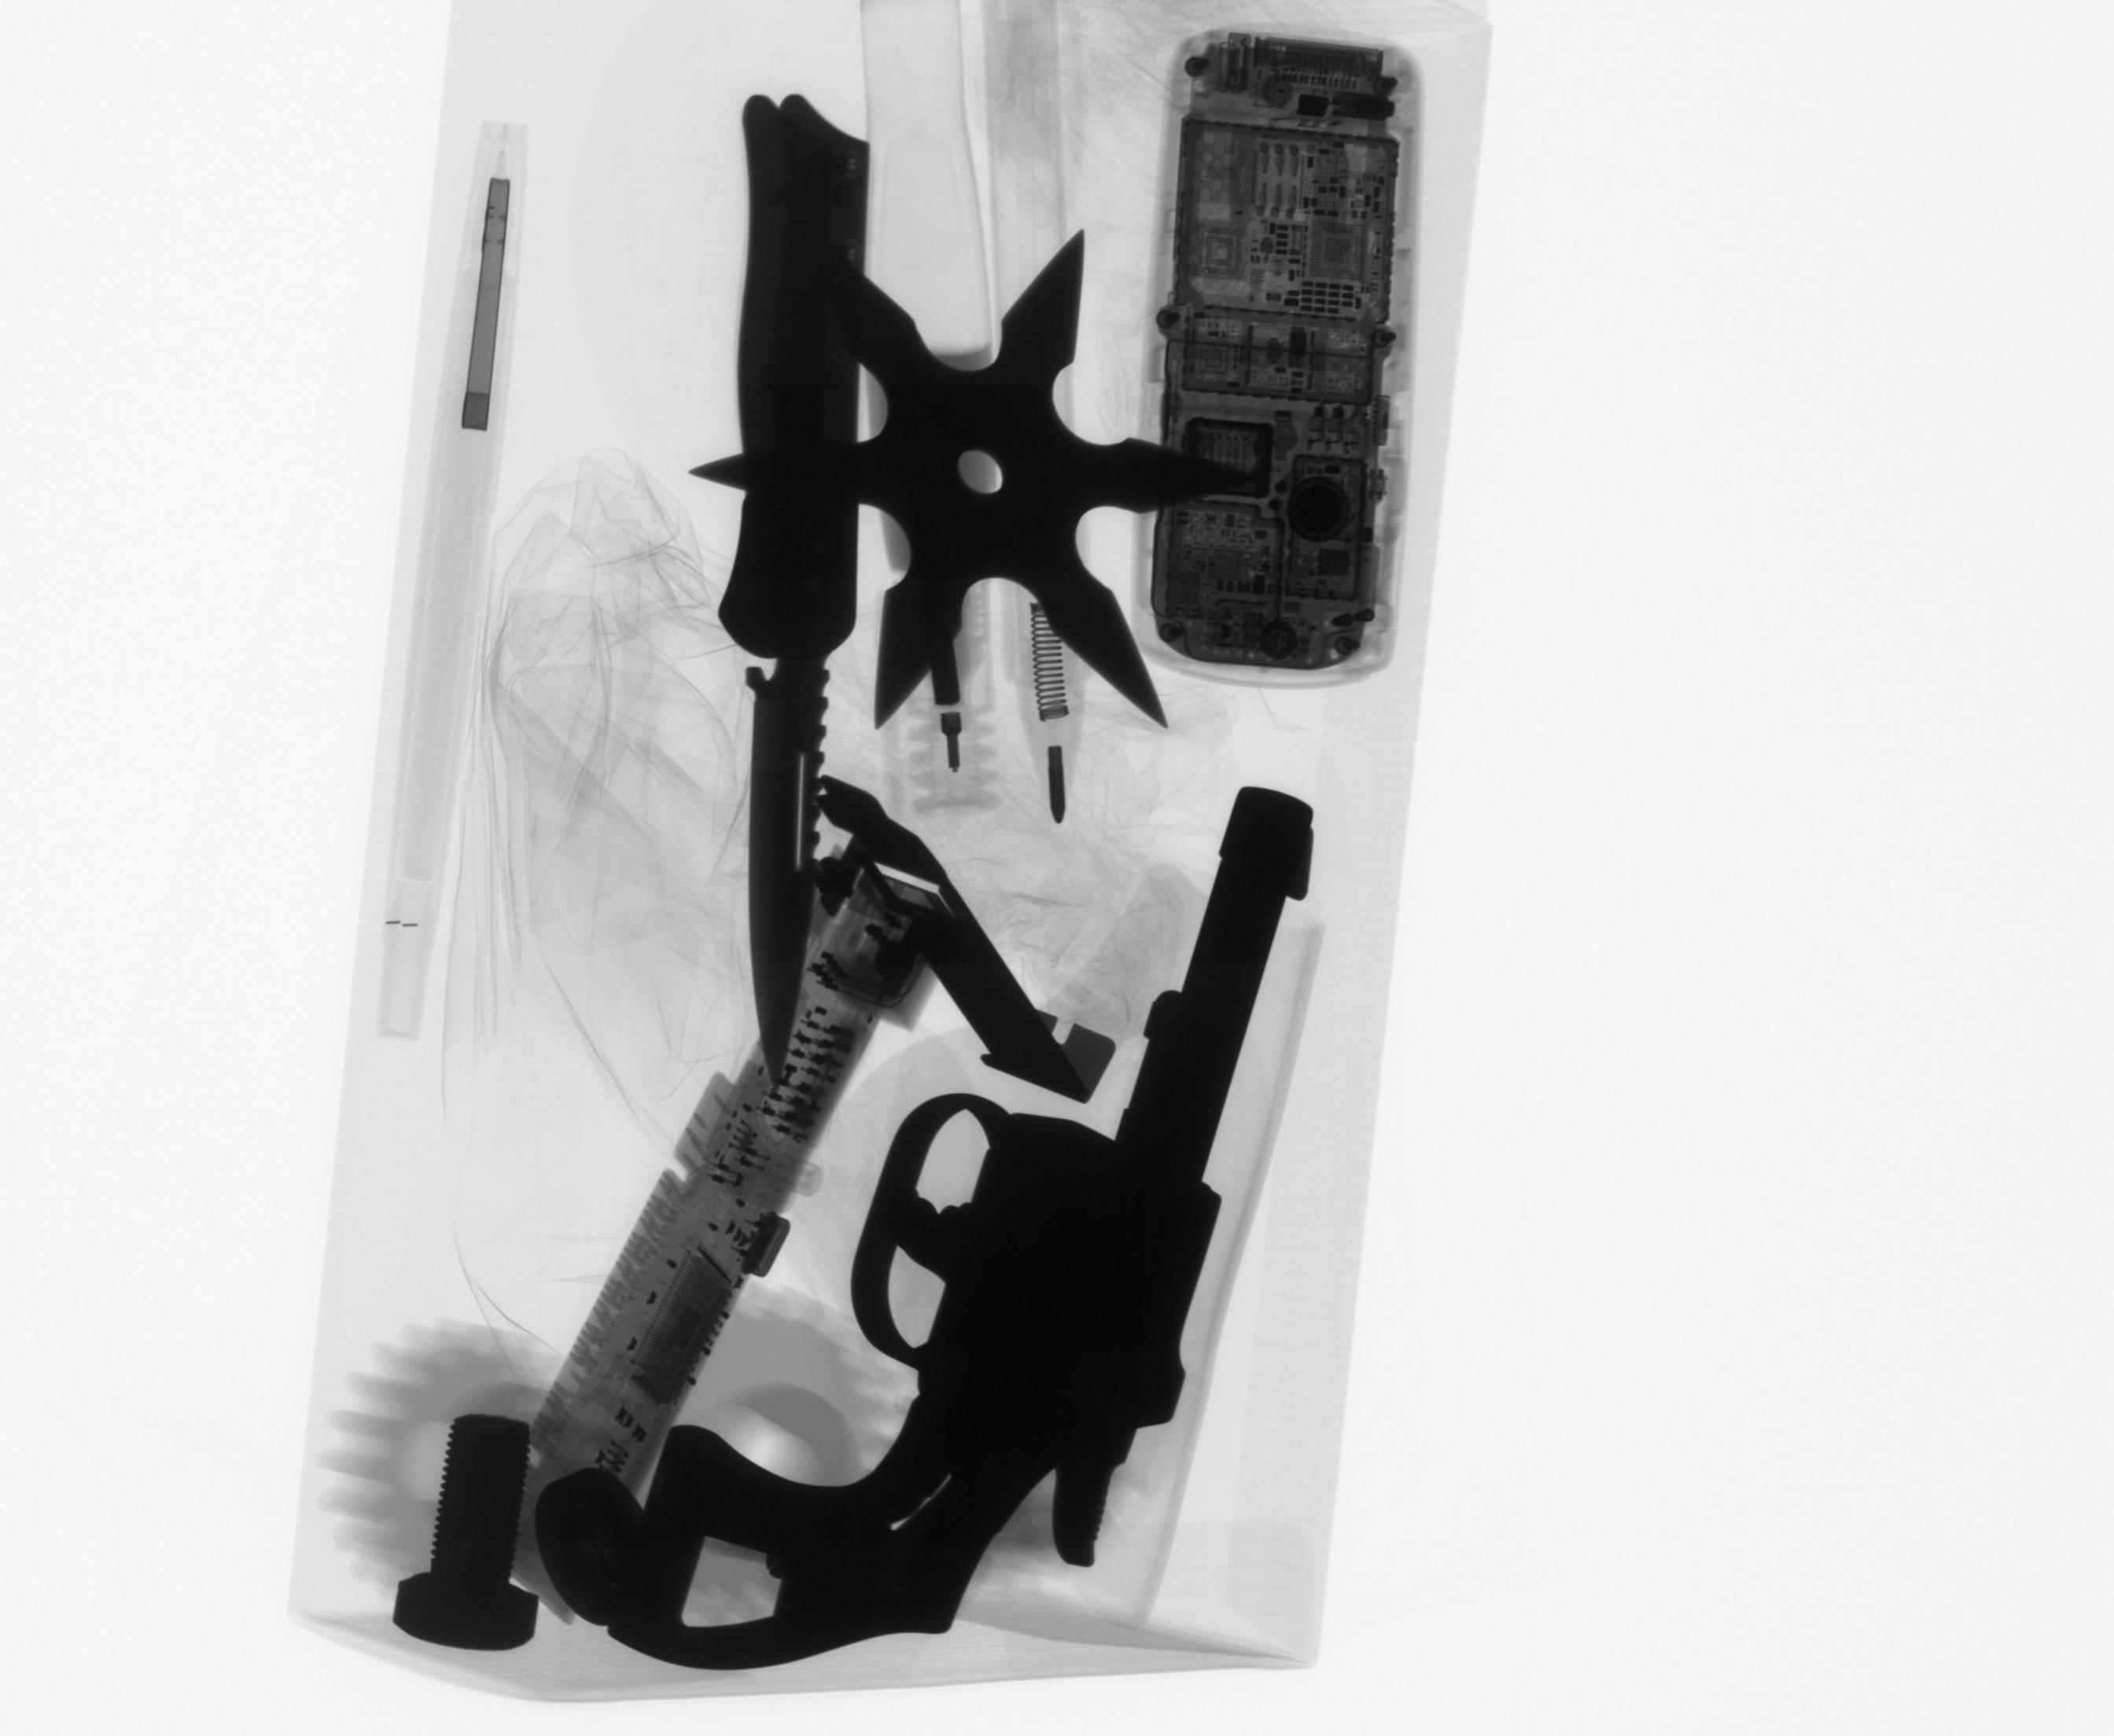Handgun: (595, 772, 1326, 1678)
Knife: (709, 84, 878, 1101)
Shuriken: (676, 219, 1261, 741)
